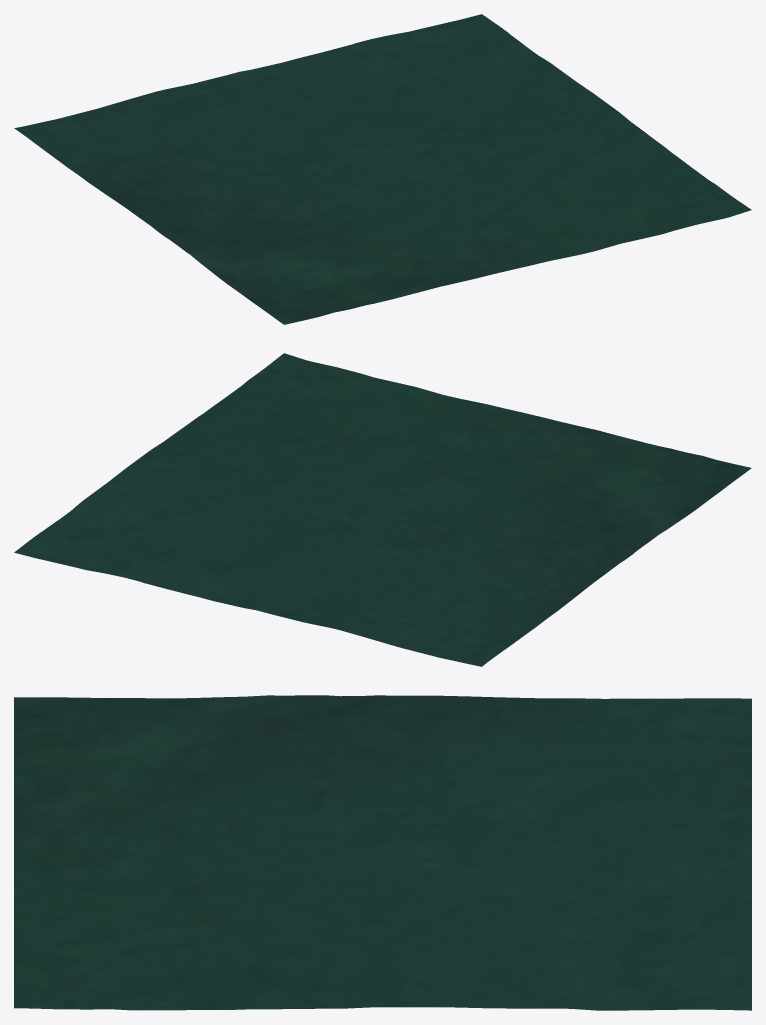
3 views of the same model, one above another, from view 1: azimuth 30°, elevation 25°; view 2: azimuth 150°, elevation 25°; view 3: azimuth 270°, elevation 25° (orthographic). The views are drawn at different scales.
Bounding box in the file's own units: 52.22 × 0.5706 × 52.22.
2 materials, 2 textured.
